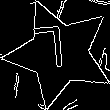L_S: (41, 27, 77, 80)
